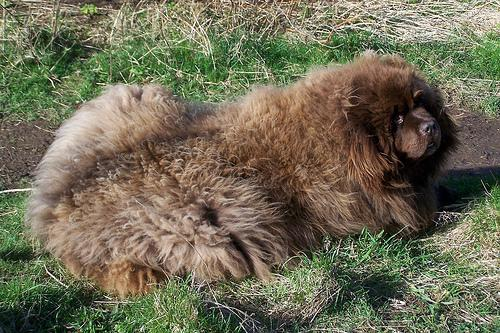dog-newfoundland: (359, 65, 449, 158)
